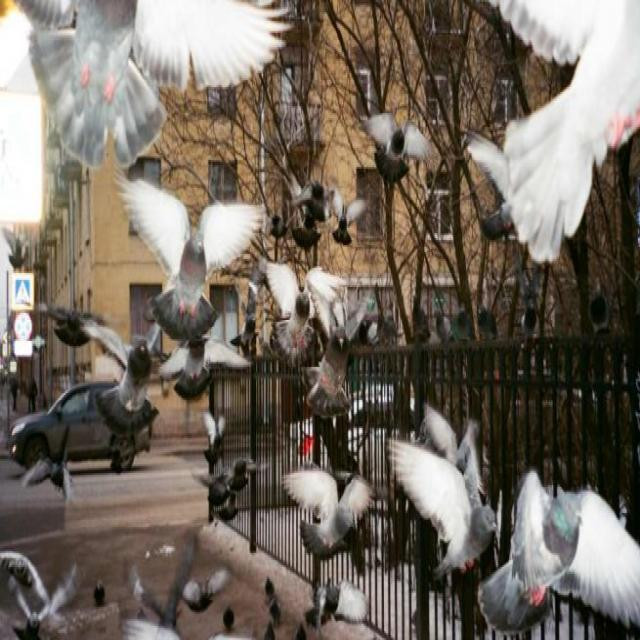bird: (5, 0, 299, 165), (456, 0, 640, 252), (108, 158, 262, 358), (491, 448, 640, 636), (388, 437, 508, 589), (271, 438, 378, 572), (294, 268, 392, 414), (360, 105, 450, 241), (244, 266, 354, 367), (0, 525, 95, 640), (186, 392, 262, 531), (84, 324, 171, 434), (154, 328, 262, 411), (422, 390, 496, 506), (42, 286, 121, 387), (296, 570, 374, 635), (178, 551, 231, 626), (286, 165, 325, 254), (326, 180, 362, 252)
